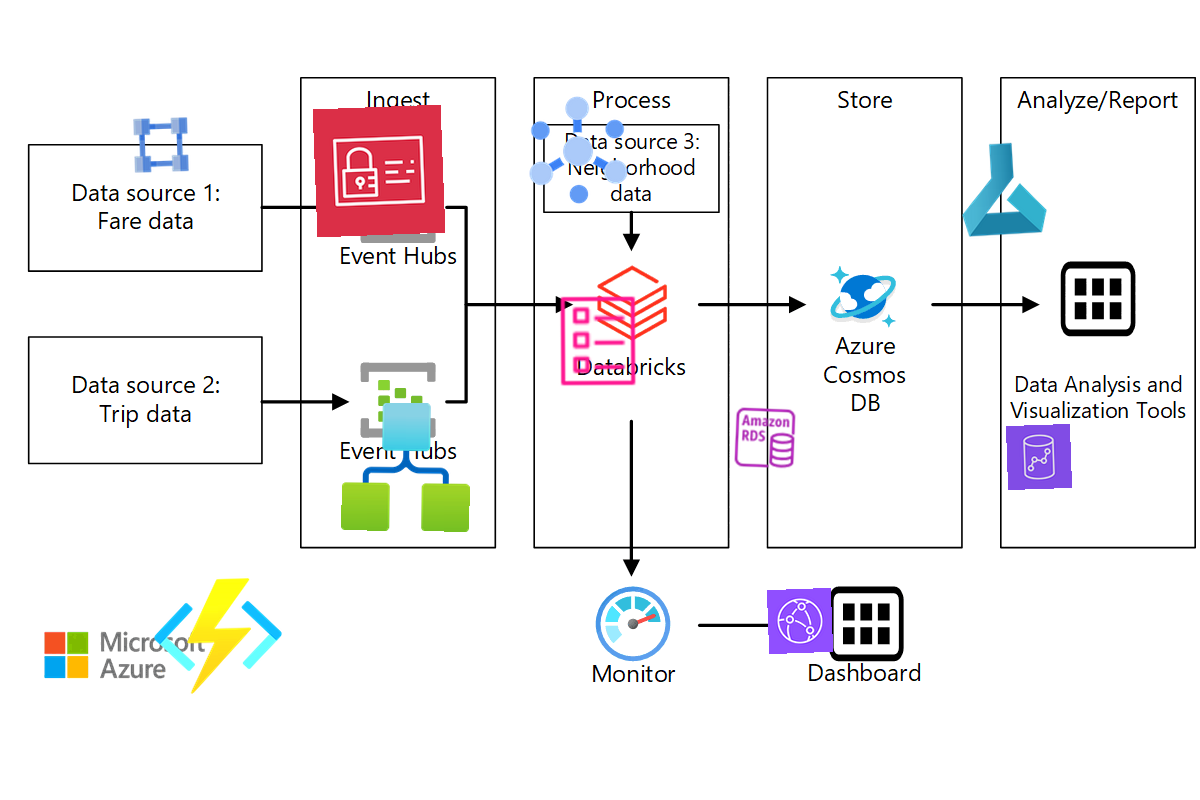aws_amazon_cloudfront: (766, 587, 834, 655)
aws_amazon_redshift: (1005, 423, 1073, 491)
aws_aurora_amazon_rds_instance: (731, 404, 799, 472)
aws_cloudformation_template: (548, 292, 646, 390)
aws_identity_and_access_management: (312, 104, 446, 238)
azure_function_apps: (151, 569, 285, 703)
azure_logic_apps: (341, 402, 471, 532)
azure_machine_learning: (952, 138, 1054, 240)
gcp_pubsub: (512, 84, 644, 216)
gcp_virtual_private_cloud: (127, 111, 195, 179)
